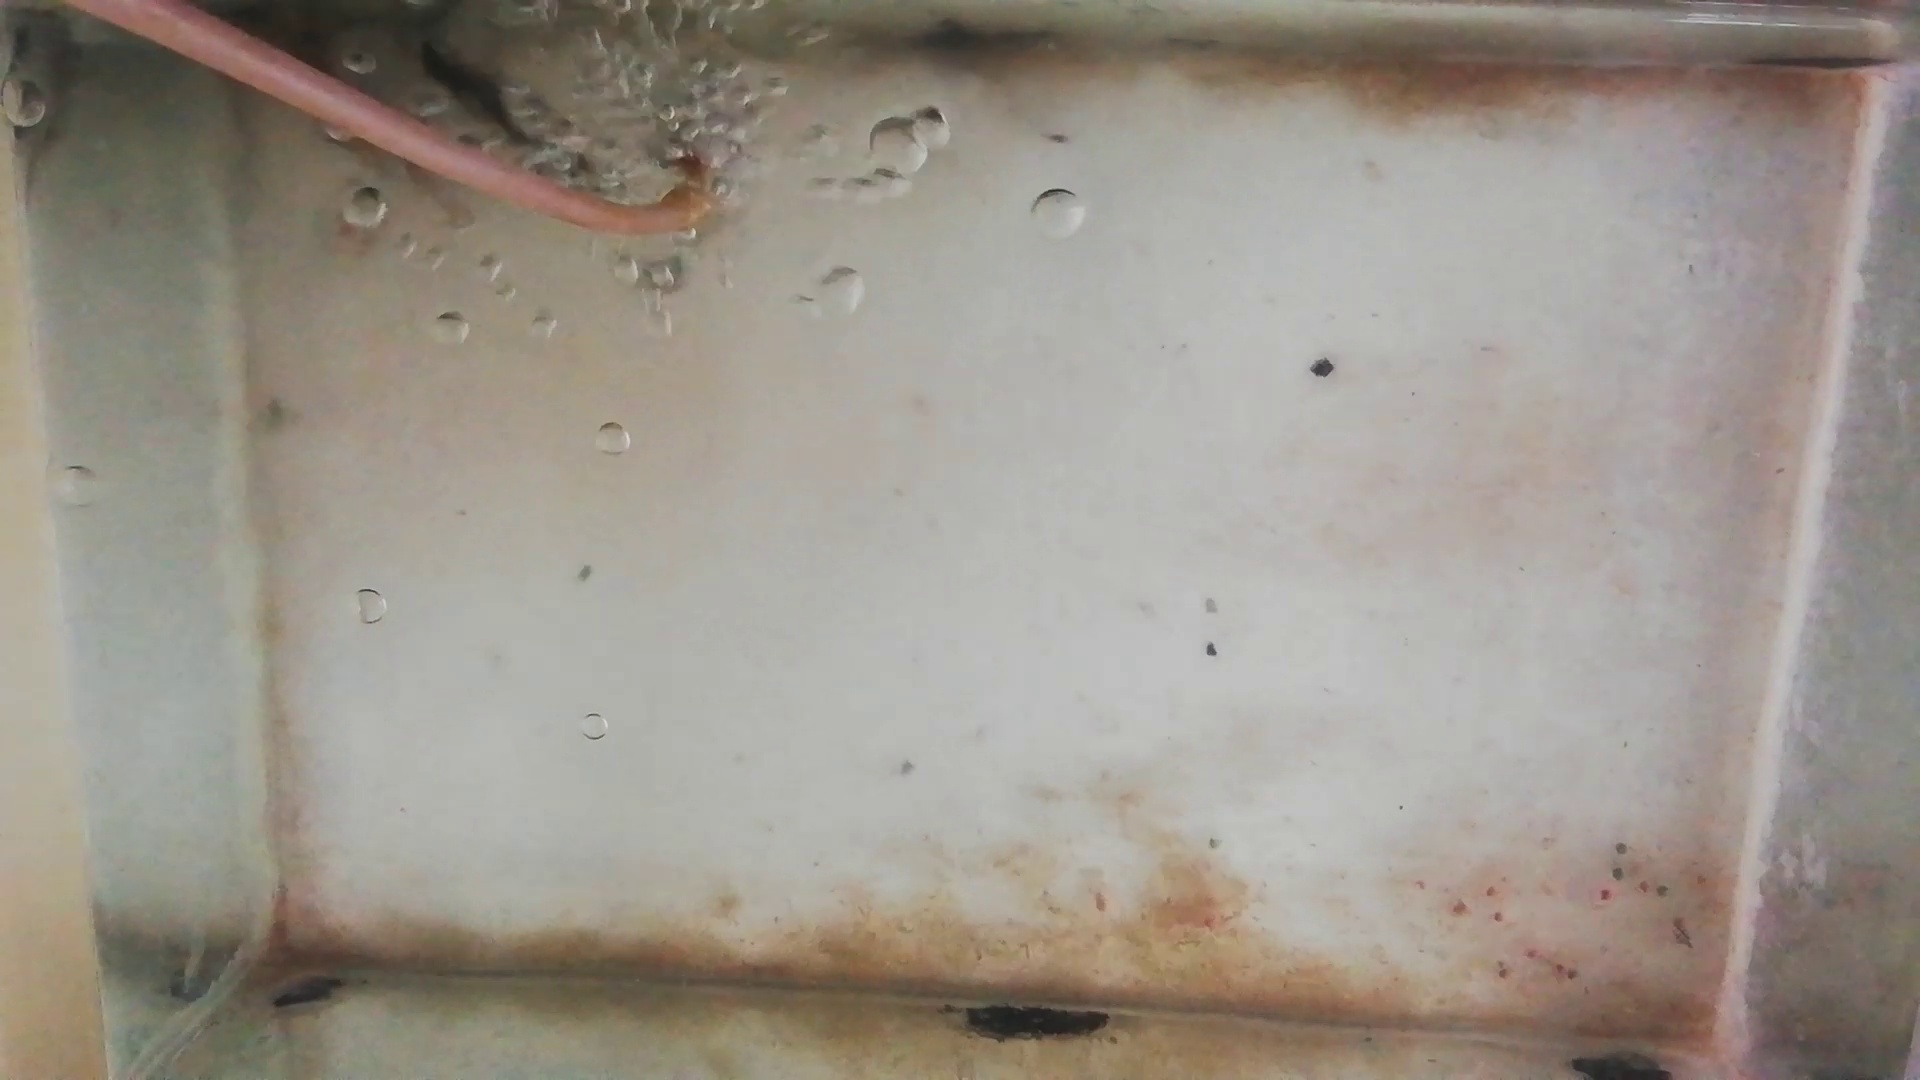fish: (419, 41, 593, 179)
